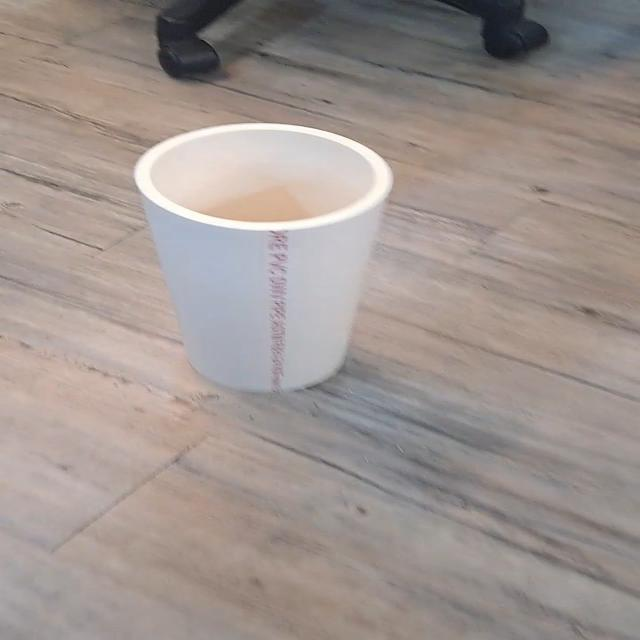CORAL: (113, 118, 404, 396)
